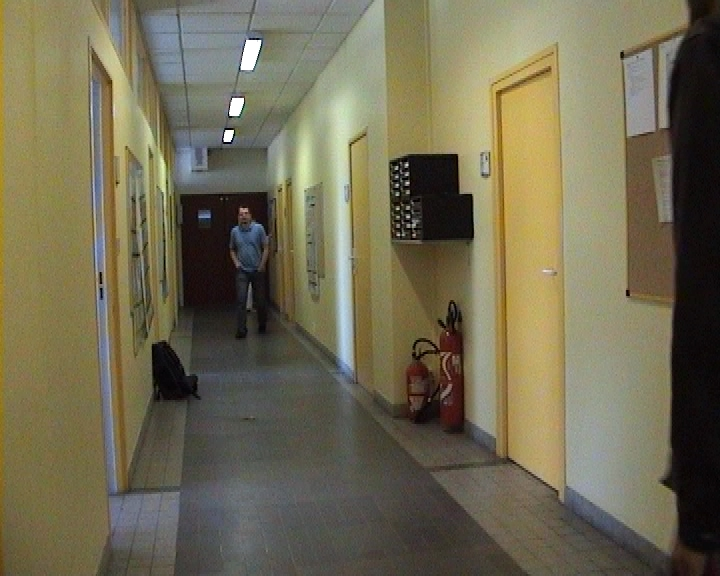leave bag unattended: (139, 330, 211, 420)
